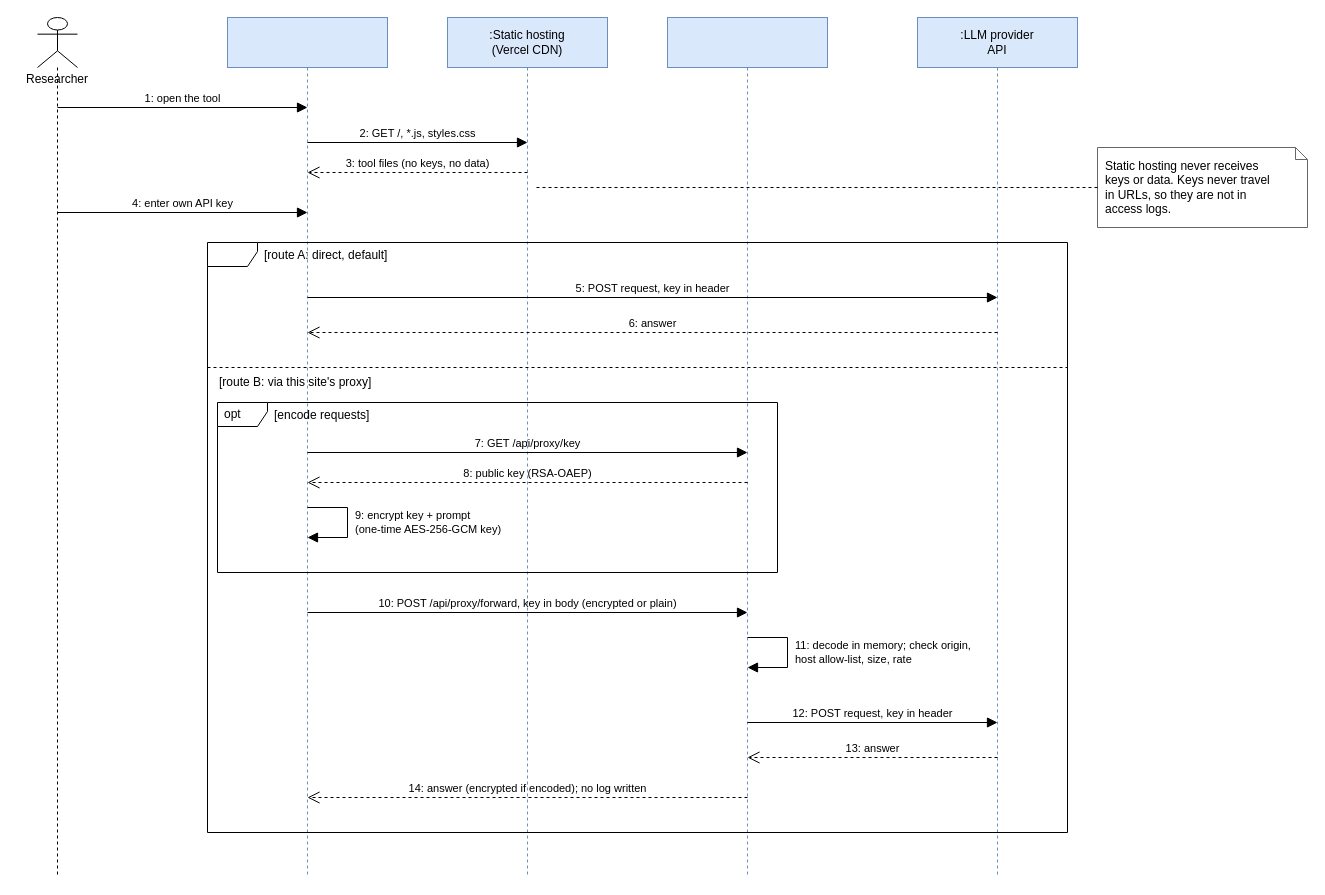
Some shapes in this 1325 by 895 pixel diagram are drawn without their labels. Here are the shapes that lost their labels. From the top down, the box of each, then its label:
(226, 16, 388, 878): :Web application (browser)
(666, 16, 828, 878): :API proxy (Vercel Function)
(206, 242, 1068, 832): alt
